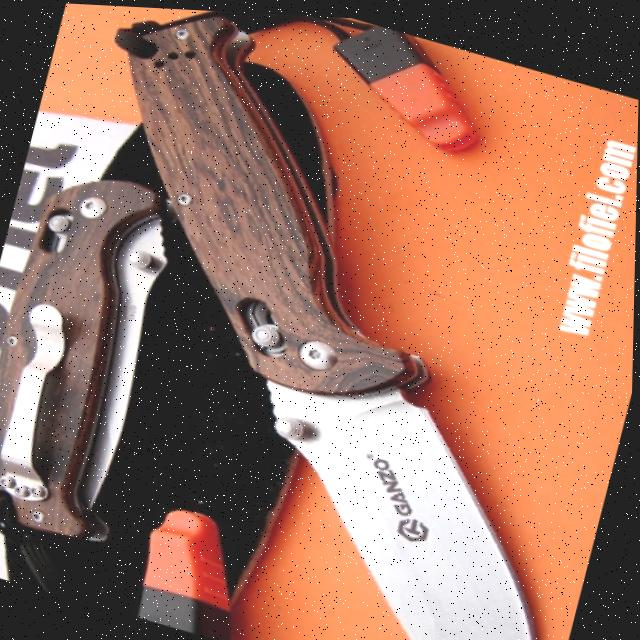knife: (0, 0, 640, 640), (0, 152, 203, 552)
